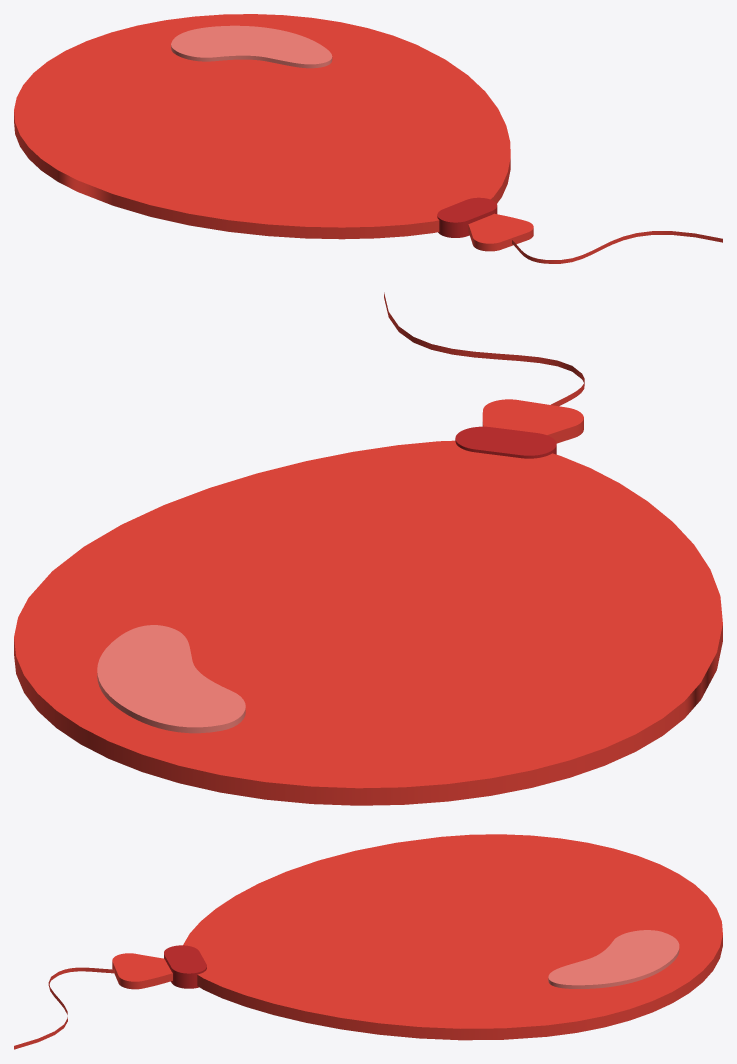
File: emoji_u1f388.glb
The picture shows the model from 3 angles, top to bottom: view 1: azimuth 30°, elevation 25°; view 2: azimuth 150°, elevation 25°; view 3: azimuth 270°, elevation 25°; orthographic projection. The views are drawn at different scales.
Parts seen in each view (by area): view 1: emoji_u1f388; view 2: emoji_u1f388; view 3: emoji_u1f388.
Part boxes in pixels (x1,y1,x2,y2): emoji_u1f388: (14, 14, 722, 263); emoji_u1f388: (14, 292, 722, 805); emoji_u1f388: (14, 834, 722, 1049).
Bounding box in the file's own units: 0.0234 × 0.001 × 0.0337.
